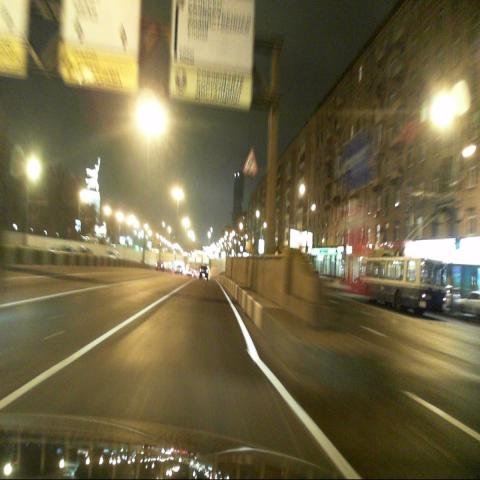1_15: (242, 148, 258, 178)
